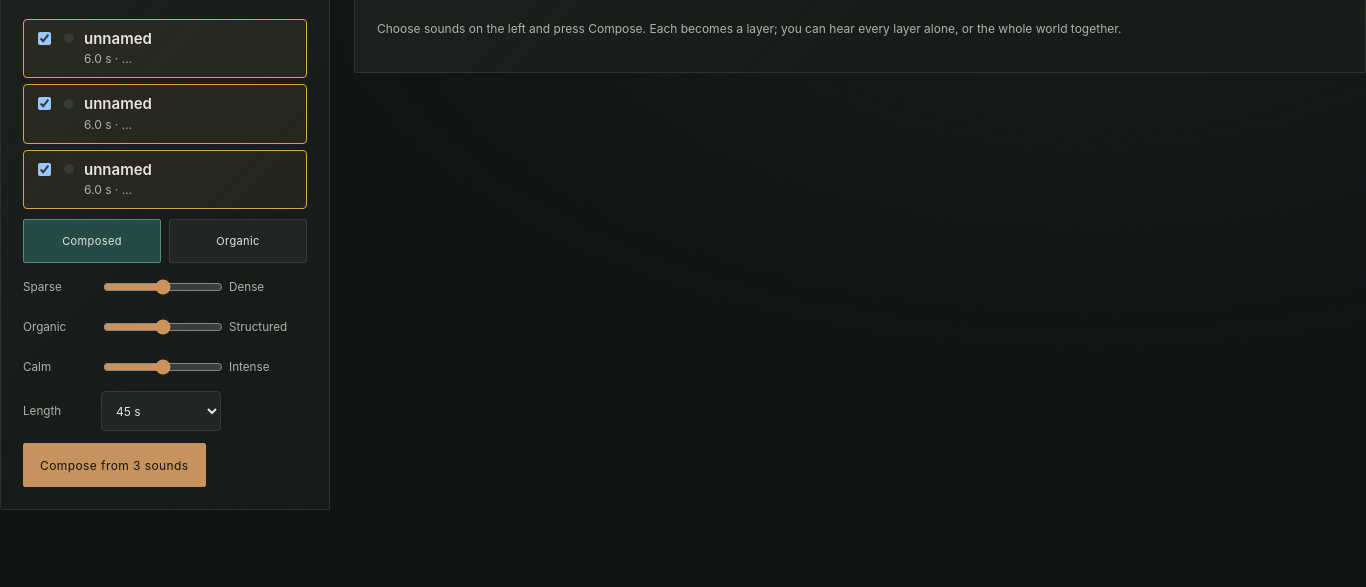
Test: Orchestra view › traces a clicked event back to its source recording
Click the button "Compose from 3 sounds" at (114,465), box 23,443 -> 206,487
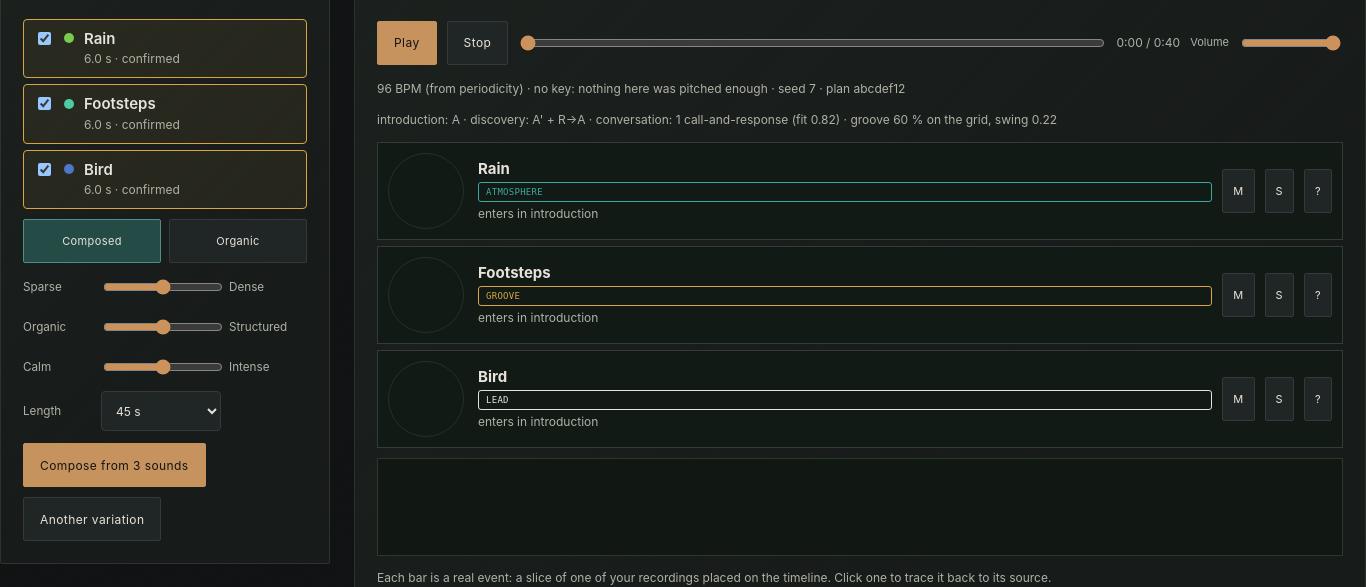
Click the picture named "timeline of 2 events" at (860,507), box 377,458 -> 1343,556
(page scrolled)
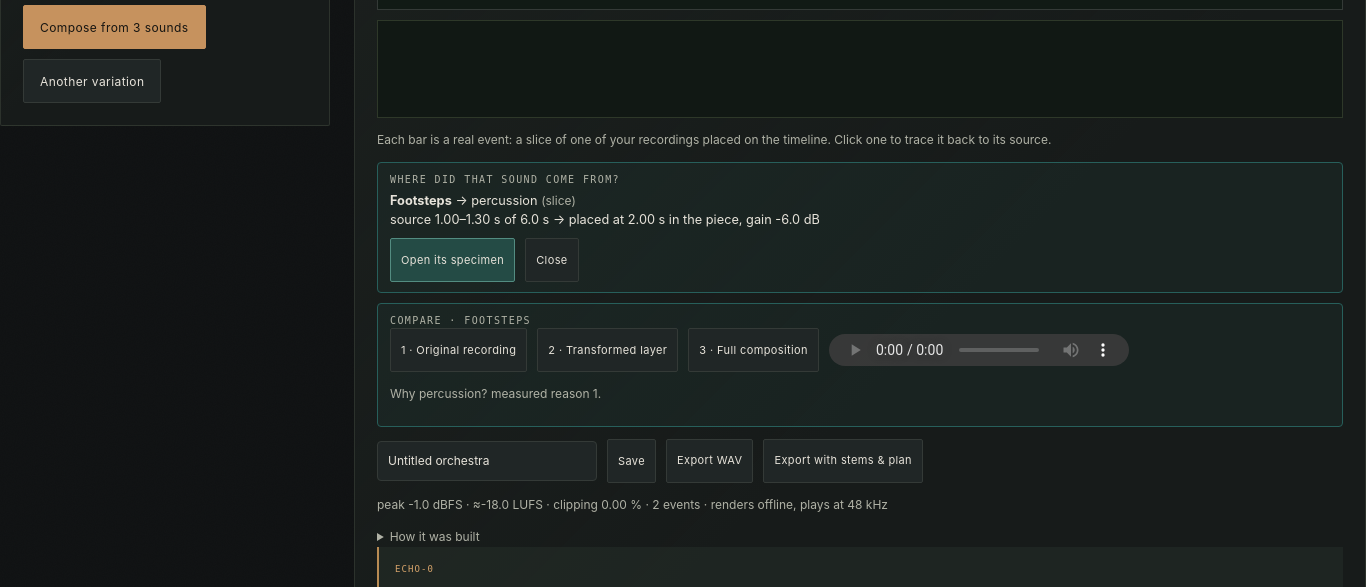
Check: the text "Footsteps" is shown, box 390,193 -> 452,208
Check: the element named "event provenance" shows "source 1.00–1.30 s of 6.0 s", box 377,162 -> 1343,293
Check: the button "Open its specimen" is enabled, box 390,238 -> 515,282
